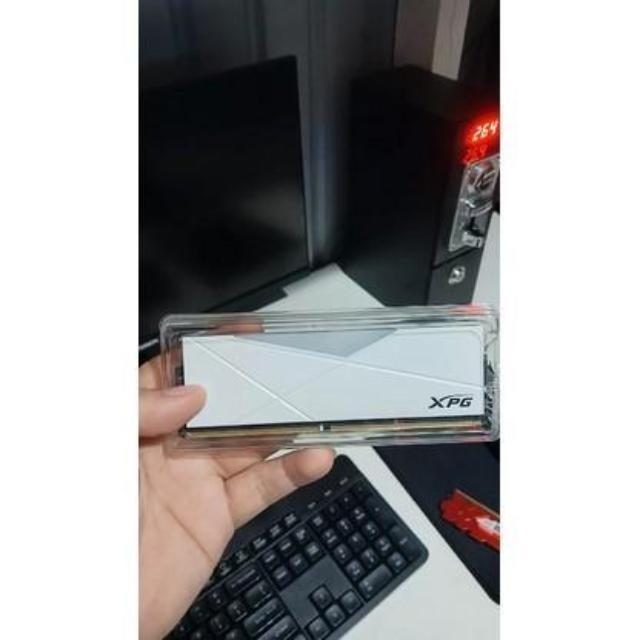RAM: (172, 324, 490, 441)
